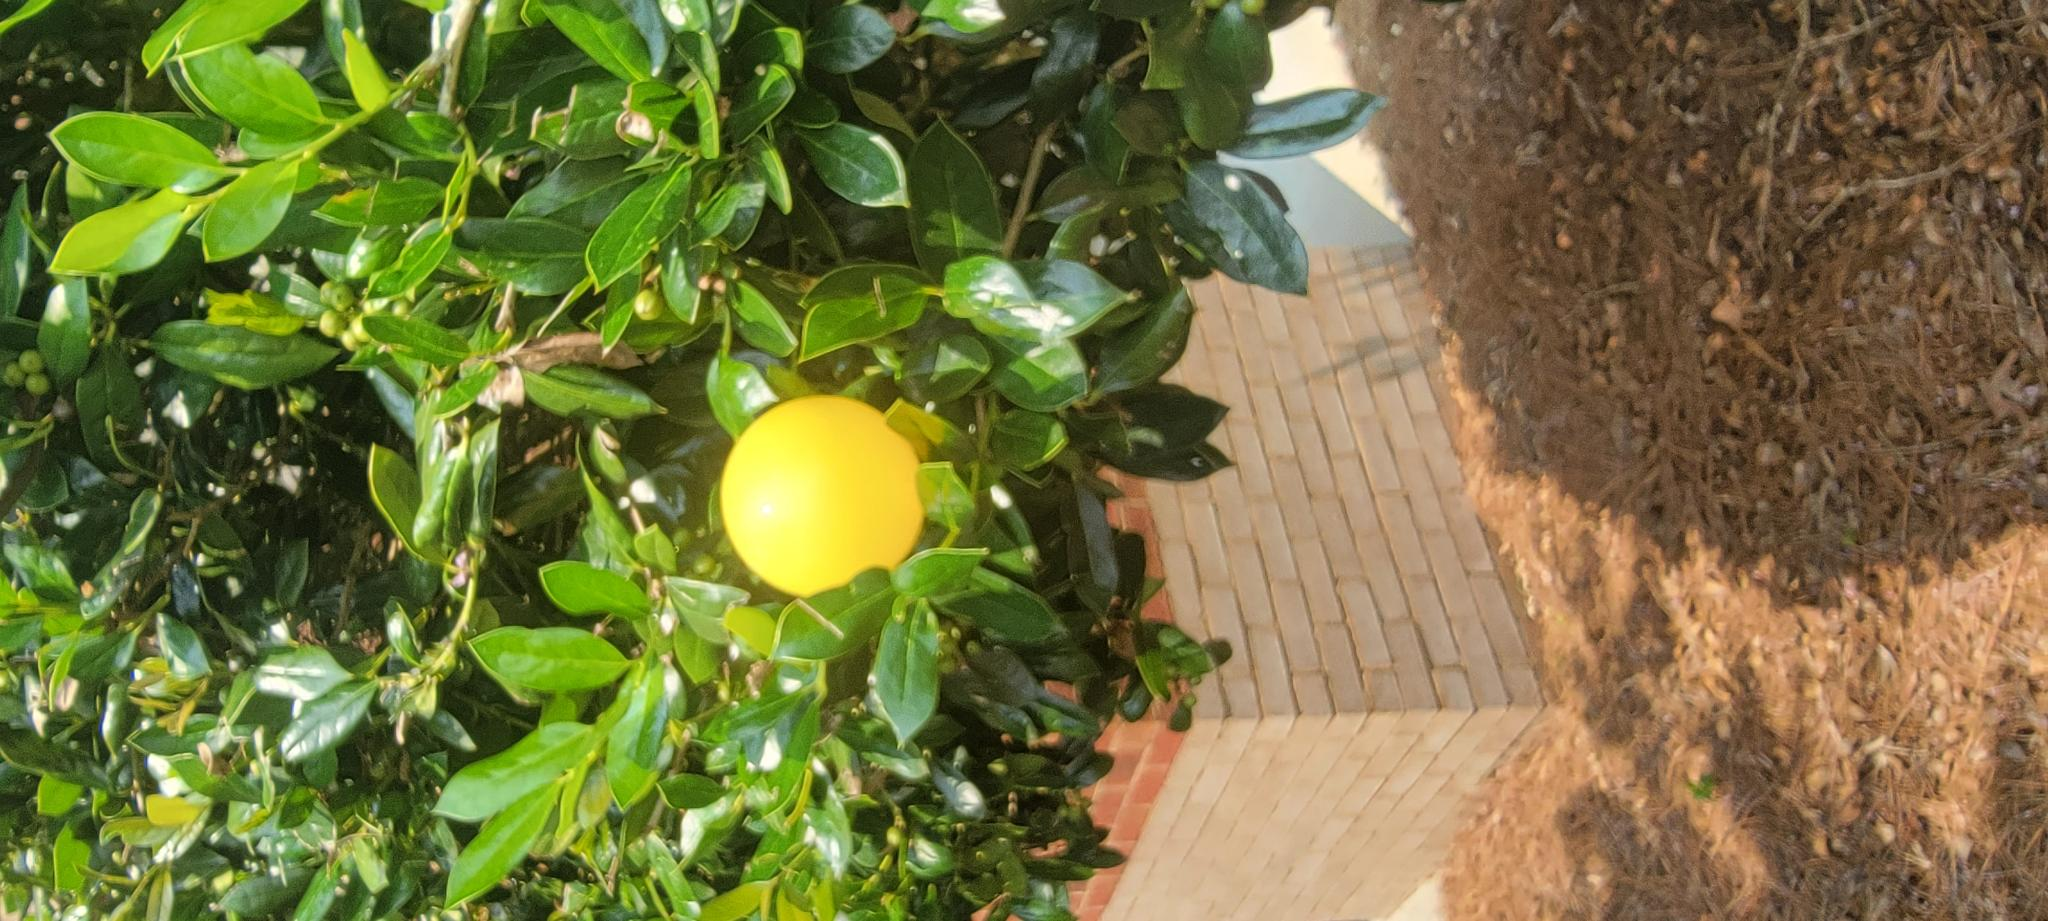Yellow-Ball: (327, 719, 525, 921)
